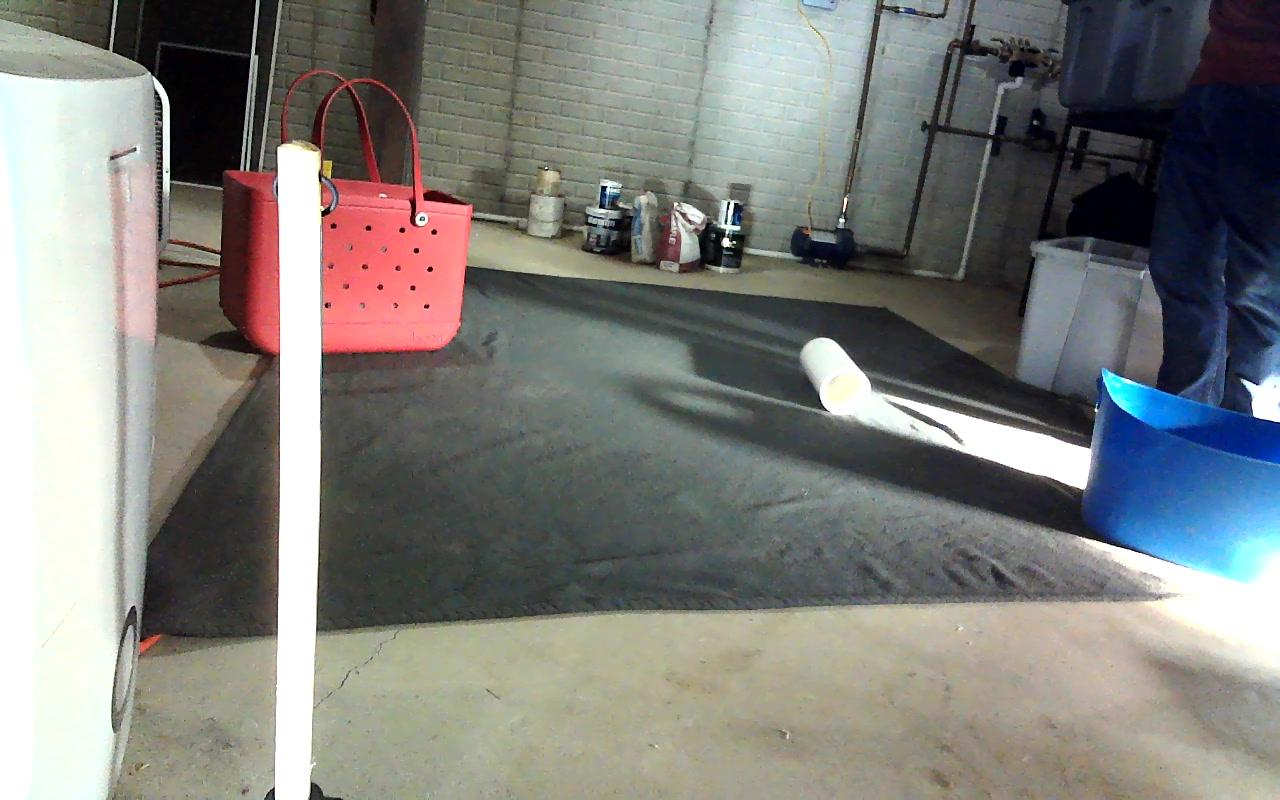coral: (801, 338, 874, 413)
